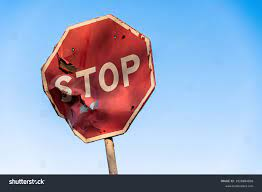Stop: (38, 19, 163, 144)
